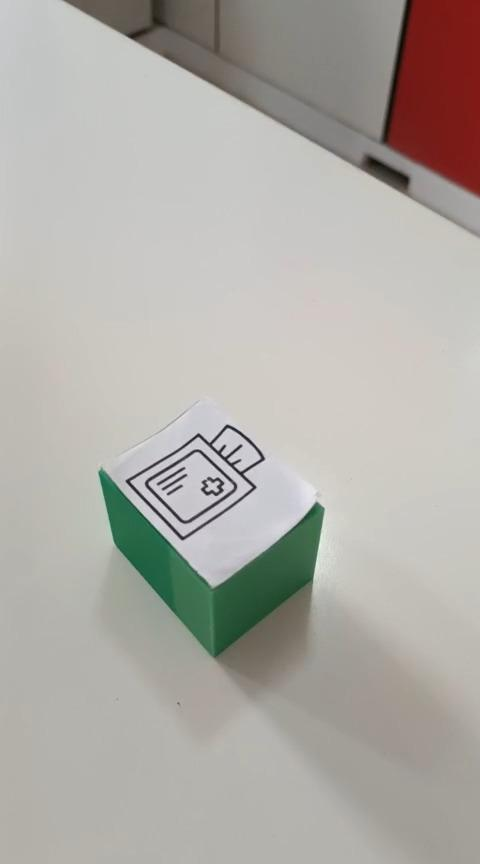Gauze: (97, 395, 325, 658)
